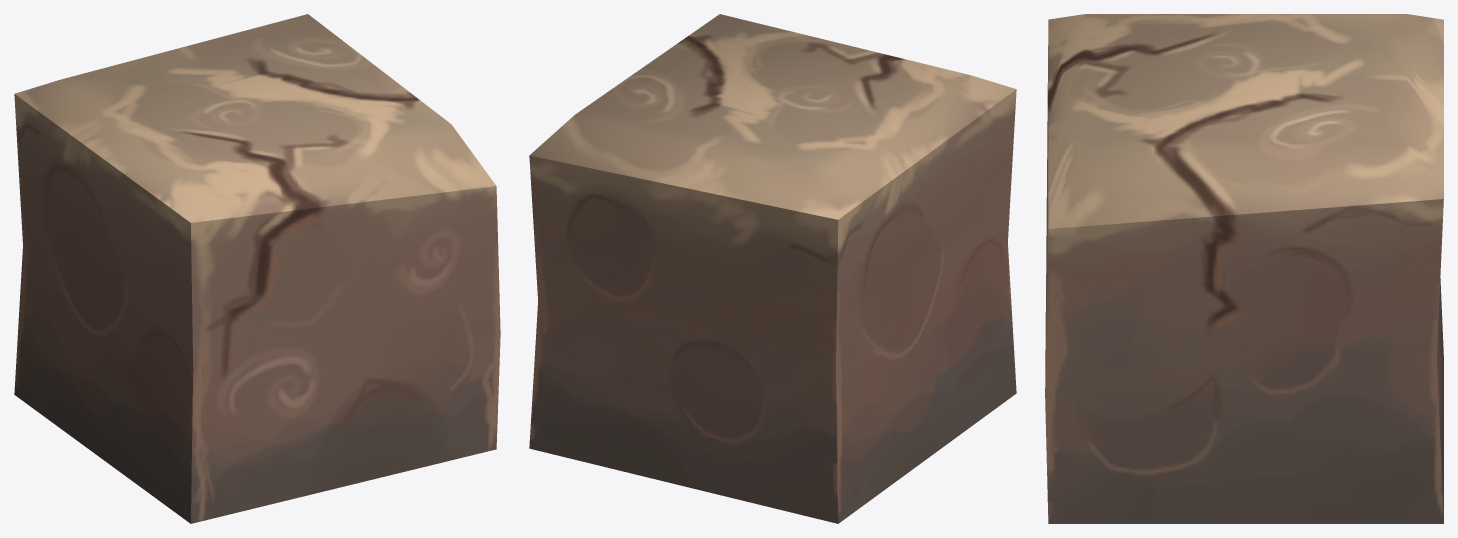
File: ObstacleStone.glb
3 renders of one model, left to right at view 1: azimuth 30°, elevation 25°; view 2: azimuth 150°, elevation 25°; view 3: azimuth 270°, elevation 25°, orthographic. The views are drawn at different scales.
Parts seen in each view (by area): view 1: Cube; view 2: Cube; view 3: Cube.
Boxes of the visible parts, left/top/right/bottom form: Cube: left=14, top=14, right=500, bottom=523; Cube: left=529, top=14, right=1016, bottom=523; Cube: left=1045, top=14, right=1443, bottom=523.
Size of the model in its own units: 0.5042 by 0.5083 by 0.5042.
Materials: 1 (1 with a texture image).
